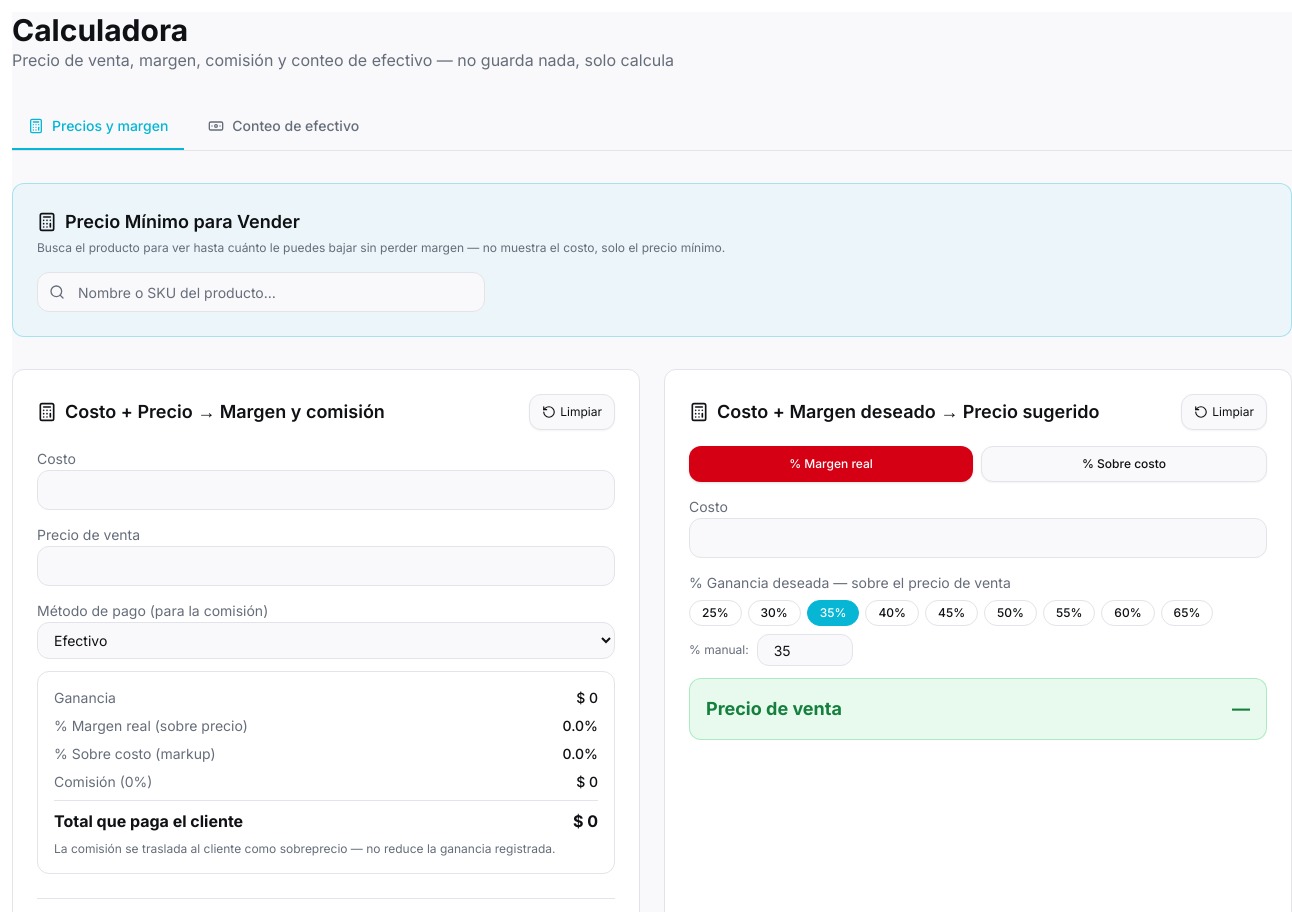
Test: Calculadora — Costo + Margen deseado → Precio sugerido › modo "sobre costo" da un precio distinto para el mismo costo y el mismo %, por diseño
The width and height of the screenshot is (1292, 912).
Type "100000" into the 2nd field at (326, 490), box [37, 470, 615, 510]
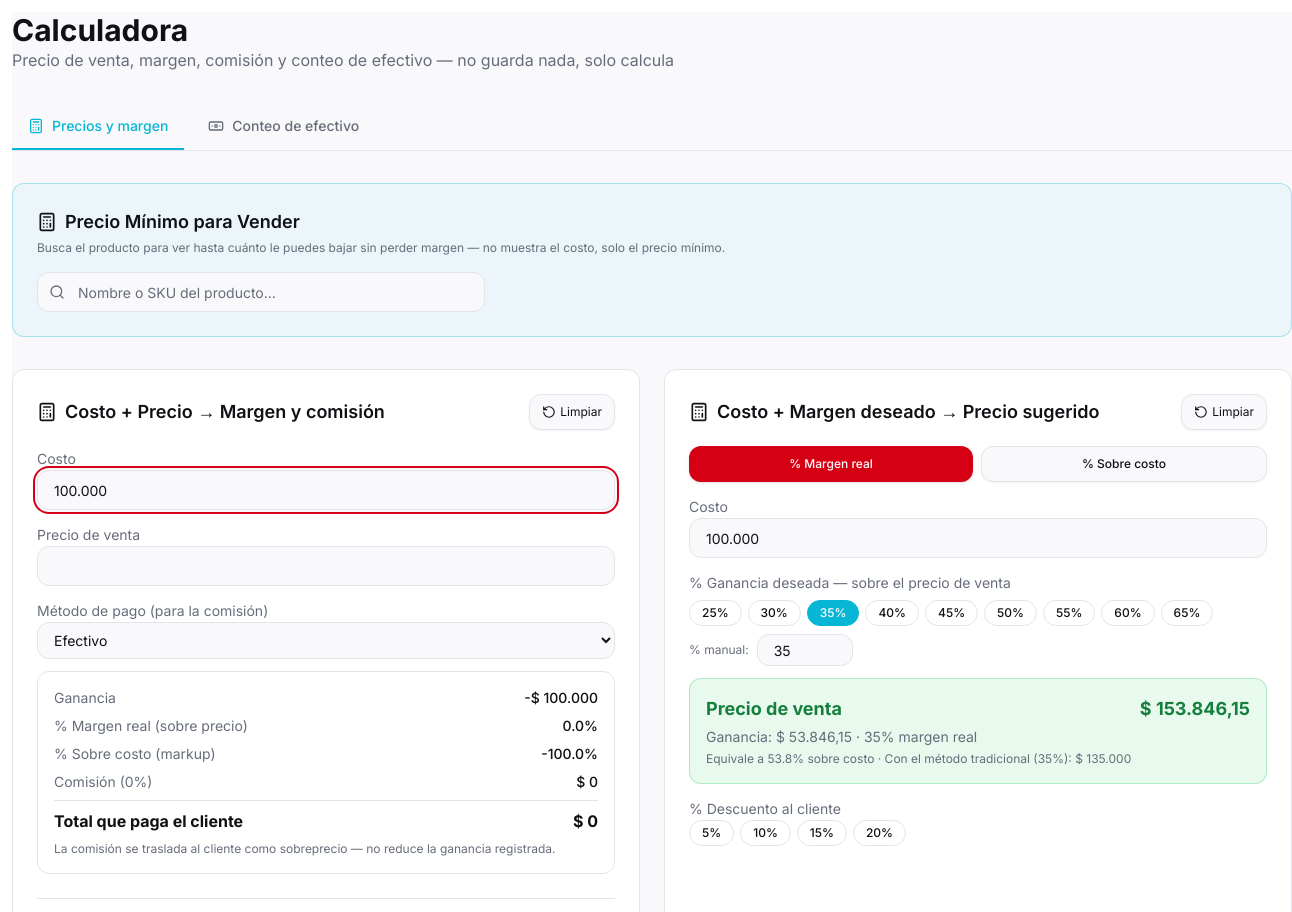
Click the button "% Sobre costo" at (1124, 464), box [981, 446, 1267, 482]
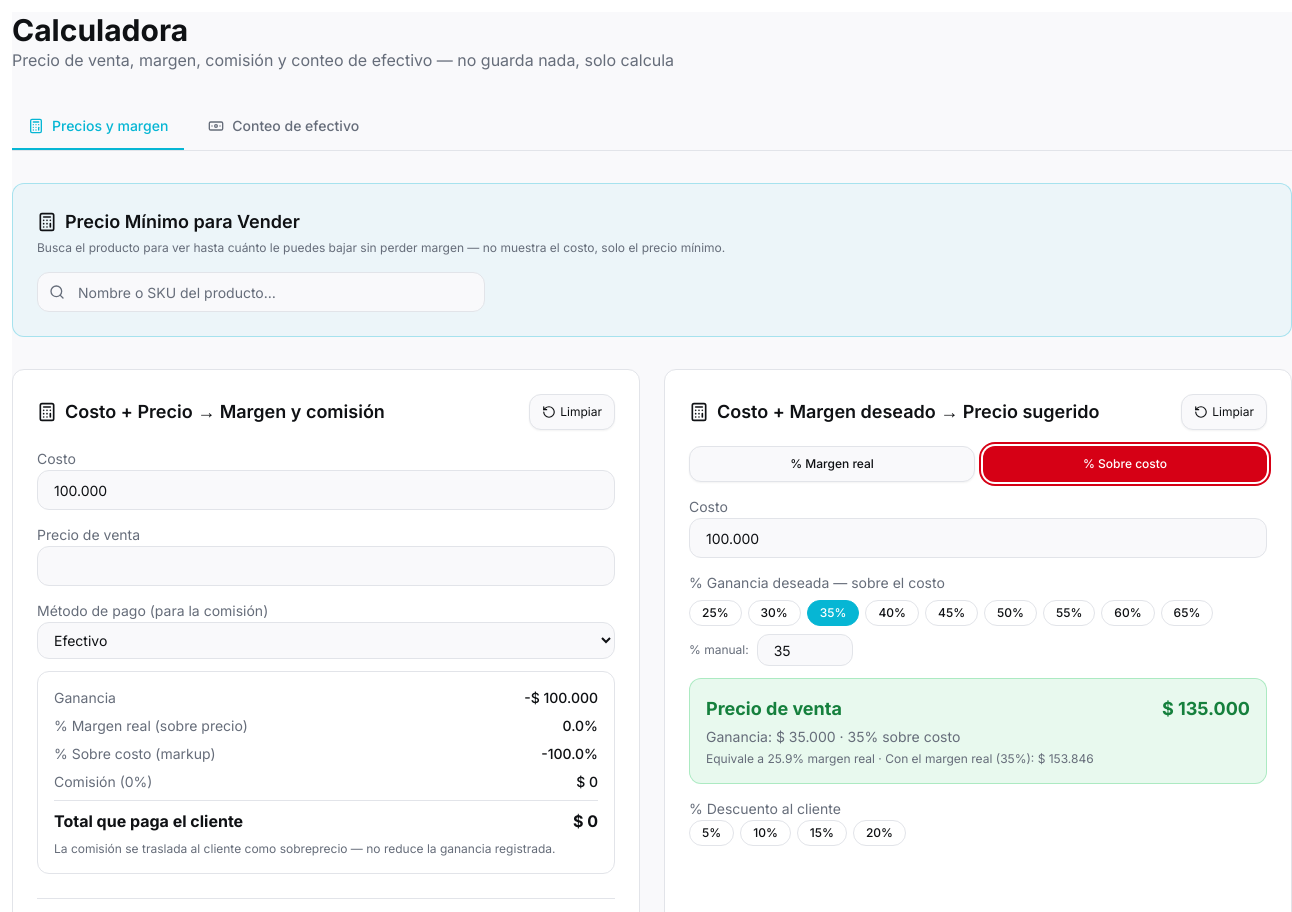
Click the button "50%" at (1010, 613), box [984, 600, 1037, 626]
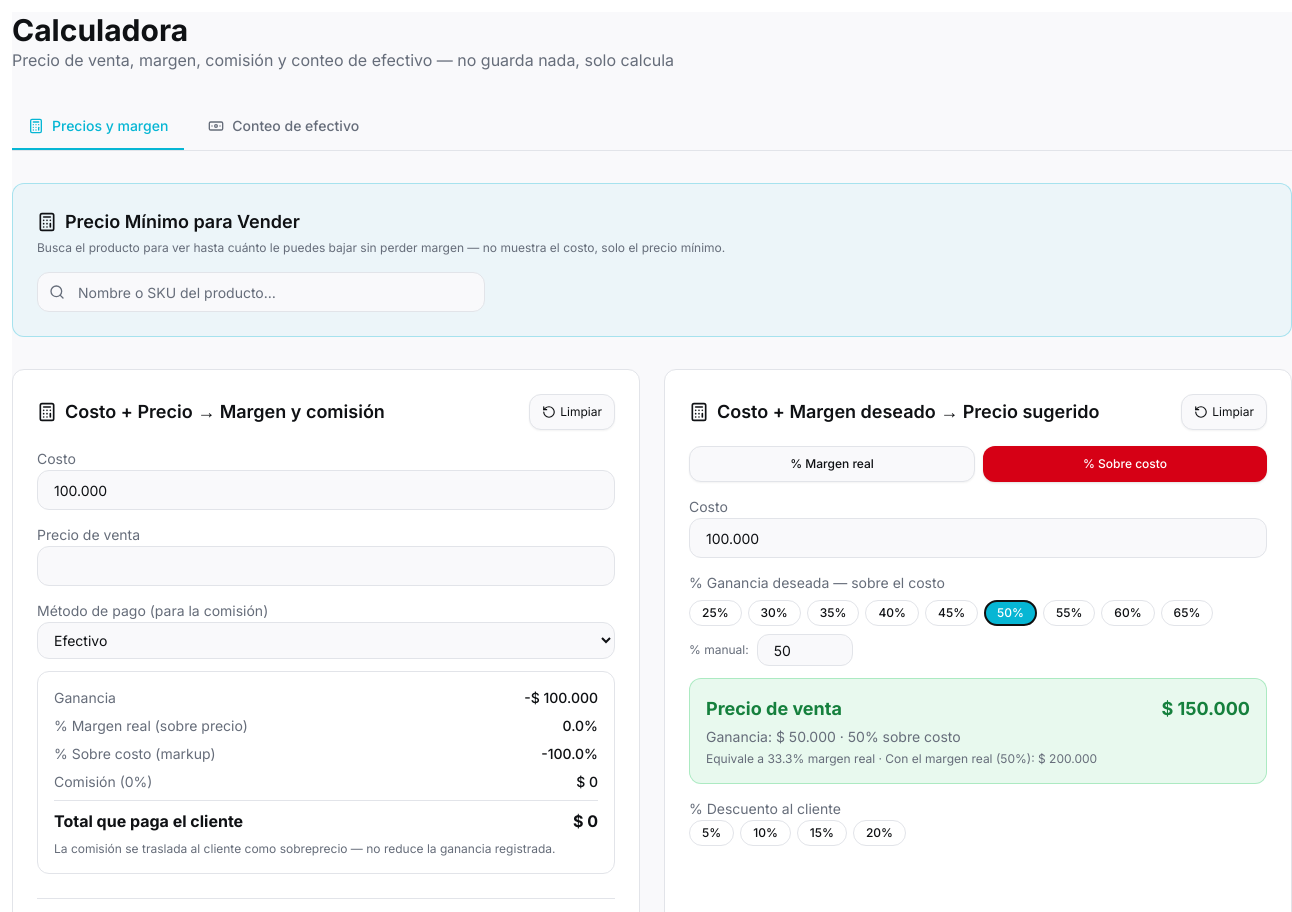
Now the text "$ 150.000" is shown, box [1162, 695, 1250, 723]
